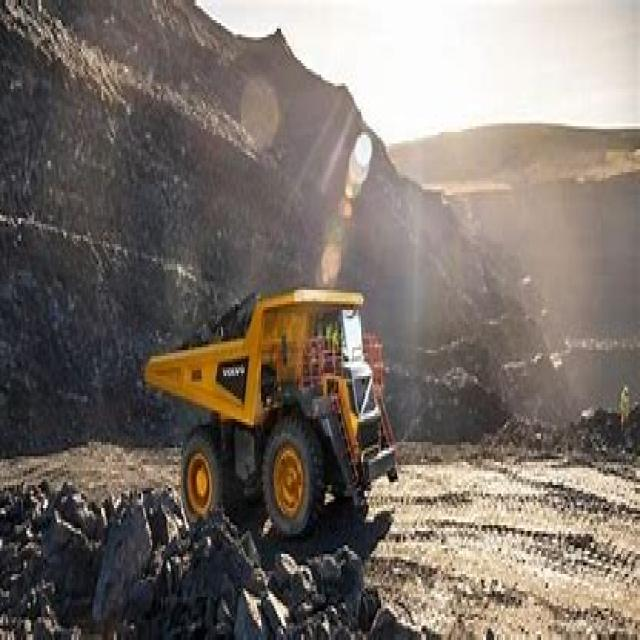dump_truck: (137, 284, 412, 543)
